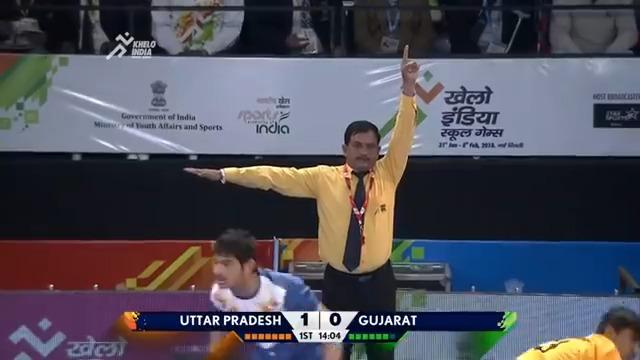Player: (205, 227, 321, 358), (515, 305, 639, 359)
referee: (182, 44, 421, 358)
